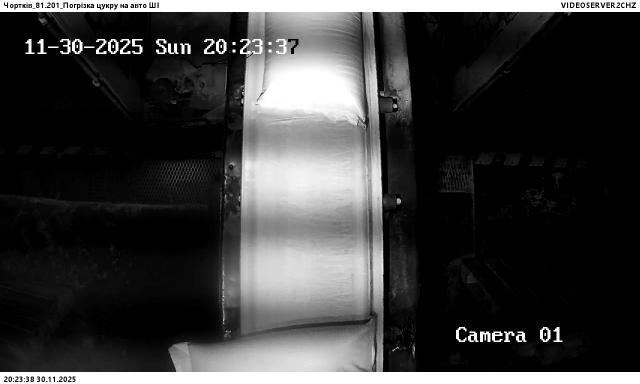bag: (256, 12, 366, 131), (164, 319, 380, 373)
